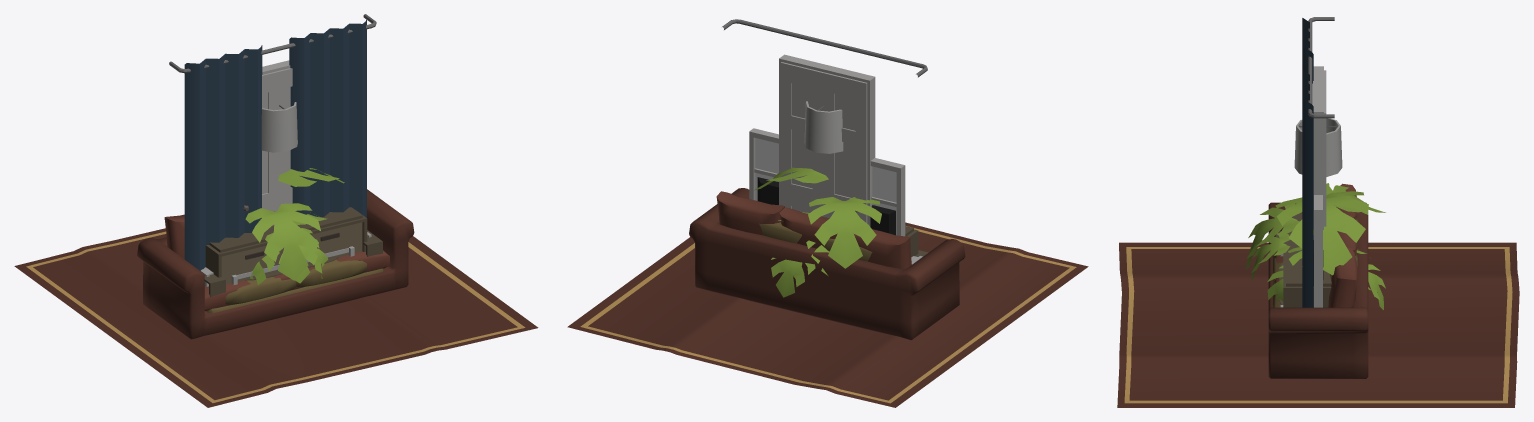
File: living-room.glb
3 renders of one model, left to right at view 1: azimuth 30°, elevation 25°; view 2: azimuth 150°, elevation 25°; view 3: azimuth 270°, elevation 25°, orthographic. The views are drawn at different scales.
Visible parts, largest first — view 1: rug, curtains, couch, sideboard, houseplant, loveseat, door, floor_lamp_b, plant_bushy; view 2: rug, couch, door, houseplant, window, floor_lamp_b, plant_bushy, curtains, tv_new, loveseat; view 3: rug, couch, houseplant, curtains, door, plant_bushy, sideboard, floor_lamp_b, window.
Part boxes in pixels (x1,y1,x2,y2): rug: [14, 228, 538, 407]; curtains: [169, 14, 376, 270]; couch: [137, 189, 414, 339]; sideboard: [205, 207, 367, 284]; houseplant: [245, 168, 344, 280]; loveseat: [204, 230, 383, 313]; door: [243, 60, 292, 225]; floor_lamp_b: [261, 102, 297, 152]; plant_bushy: [250, 212, 328, 284]; rug: [567, 222, 1088, 407]; couch: [689, 188, 965, 340]; door: [779, 54, 875, 226]; houseplant: [754, 167, 881, 268]; window: [749, 128, 905, 236]; floor_lamp_b: [804, 101, 843, 153]; plant_bushy: [771, 212, 829, 297]; curtains: [722, 19, 927, 77]; tv_new: [757, 177, 895, 235]; loveseat: [759, 222, 928, 261]; rug: [1117, 242, 1519, 407]; couch: [1268, 183, 1368, 378]; houseplant: [1246, 183, 1385, 275]; curtains: [1302, 17, 1334, 307]; door: [1312, 66, 1326, 270]; plant_bushy: [1251, 233, 1385, 309]; sideboard: [1283, 212, 1331, 307]; floor_lamp_b: [1294, 118, 1342, 176]; window: [1314, 195, 1322, 307].
Bounding box in the file's own units: 3 × 2.25 × 3.09.
